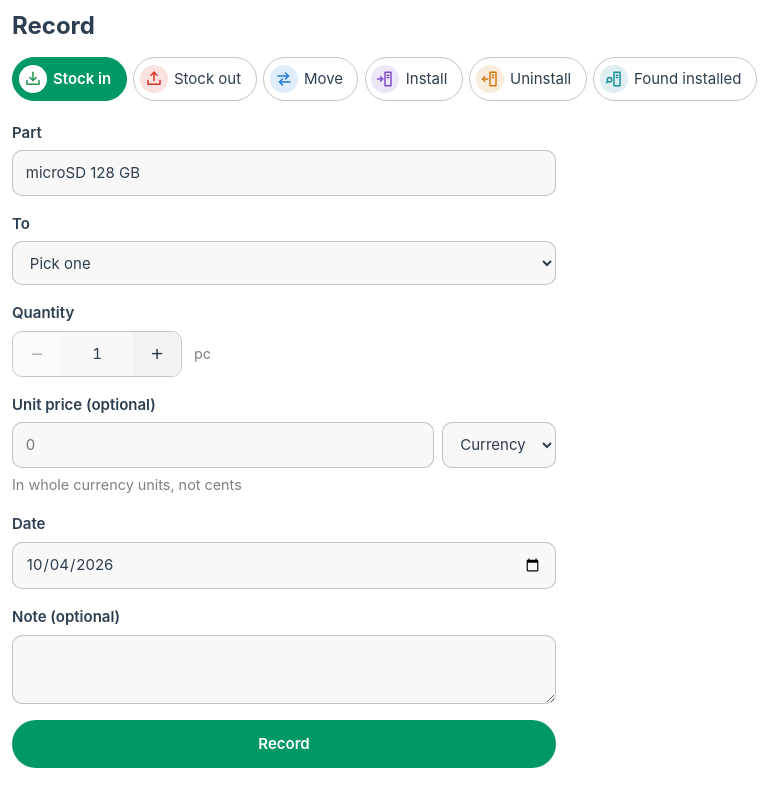
Test: Record: fields per type (spec §4.7 table) › move
This screenshot has width=774, height=785.
Click the radio button labelled "Move" at coordinates (311, 79), box [263,57,358,101]
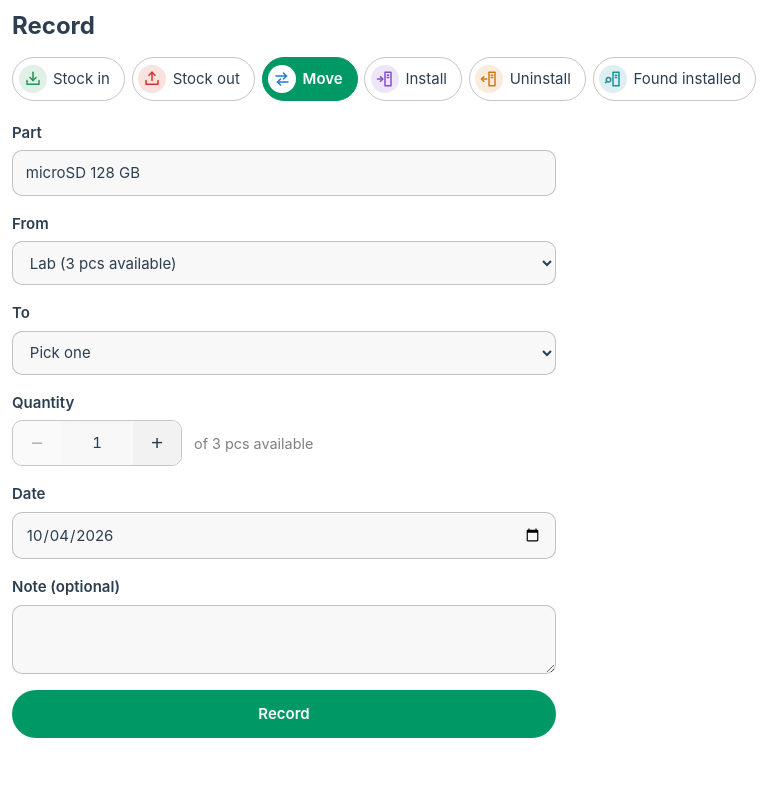
Expected: the dropdown with id "rec-to" is shown, [12,331,556,375]
Now the dropdown with id "rec-from" is shown, box [12,241,556,285]
